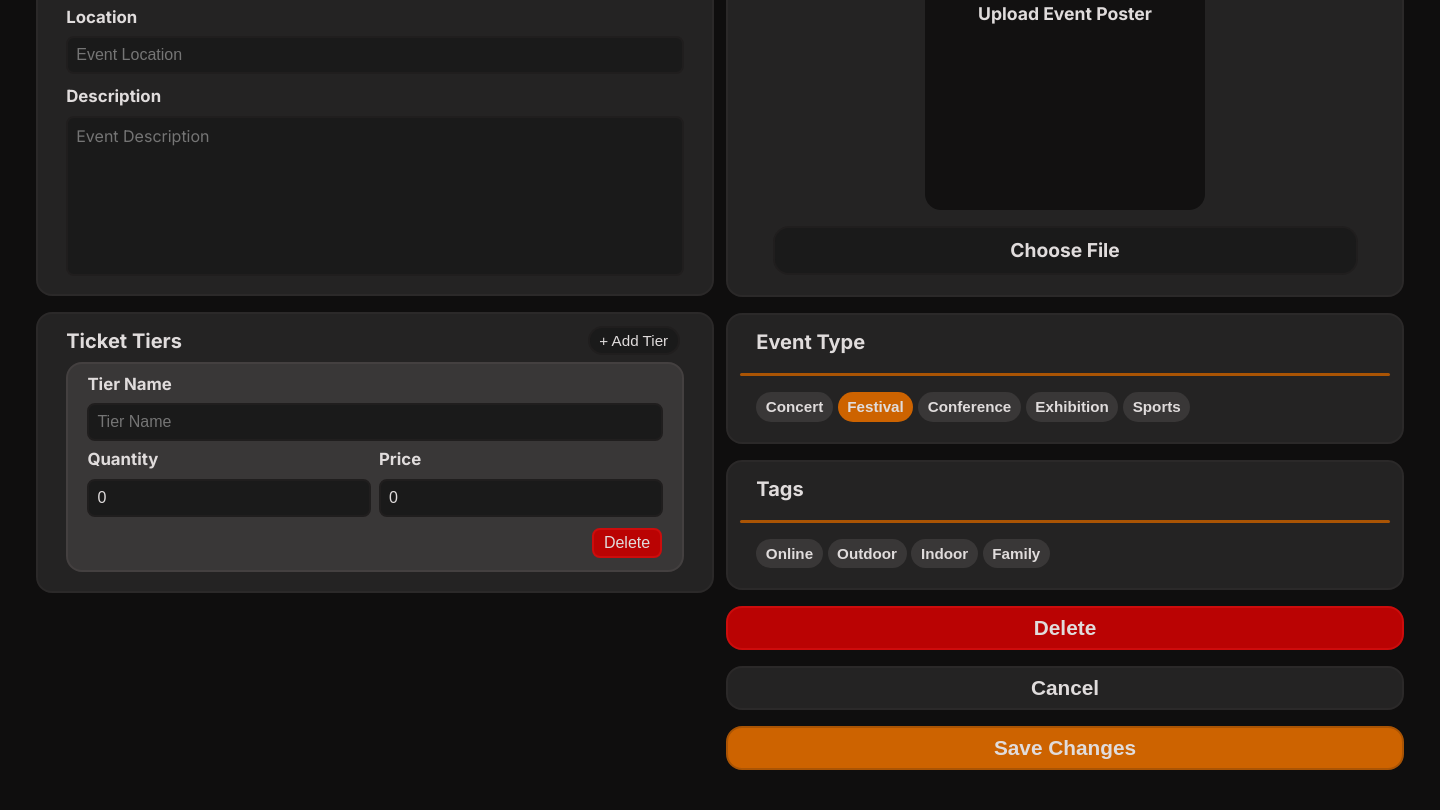
Test: EditEvent › opens delete modal
(page scrolled)
What coordinates should you click on to do the following:
click the button with test id "staff_event_delete"
I would click on:
 (1065, 628)
Its box is x1=726 y1=606 x2=1404 y2=650.
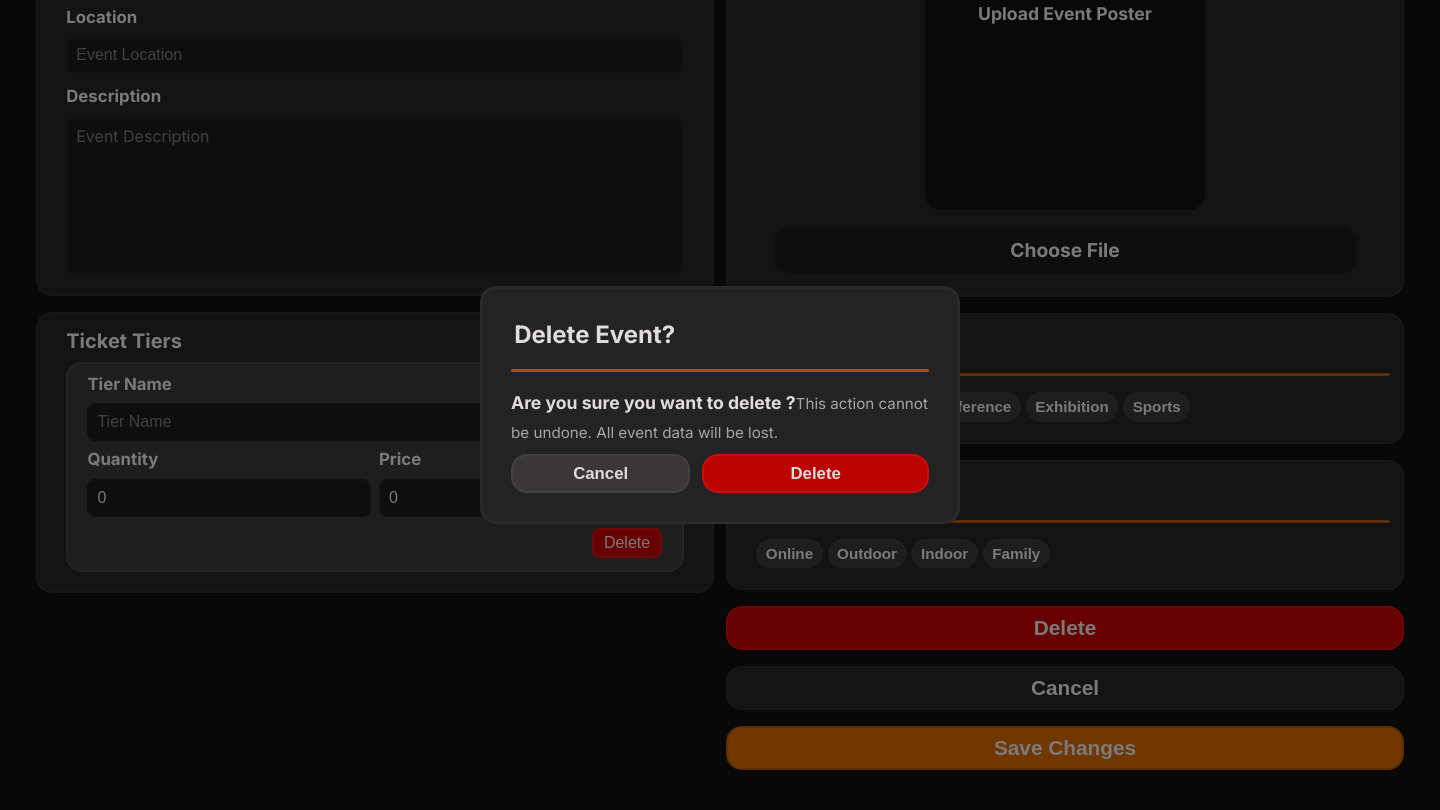
Now the text "Delete Event?" is shown, box x1=514 y1=320 x2=675 y2=349
